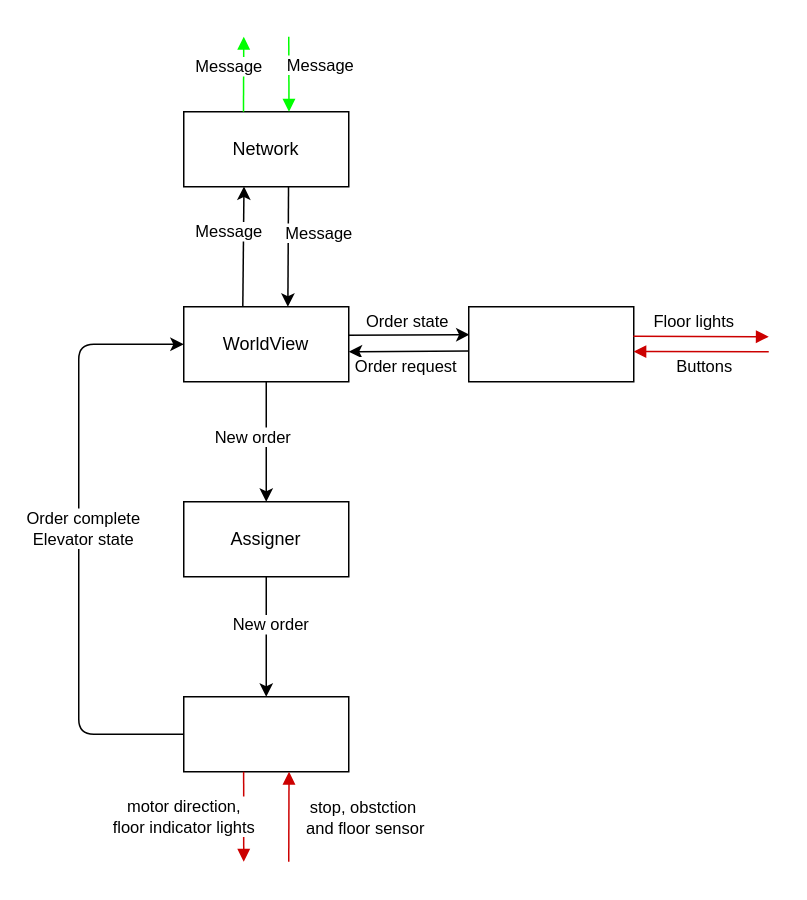
Image size: 807x900. Some labels were removed from this diagram. Here are the shapes that lost their labels. From the top down, the centre of each, then its label:
(x=550, y=343): Orders
(x=265, y=733): ElevatorDriver
